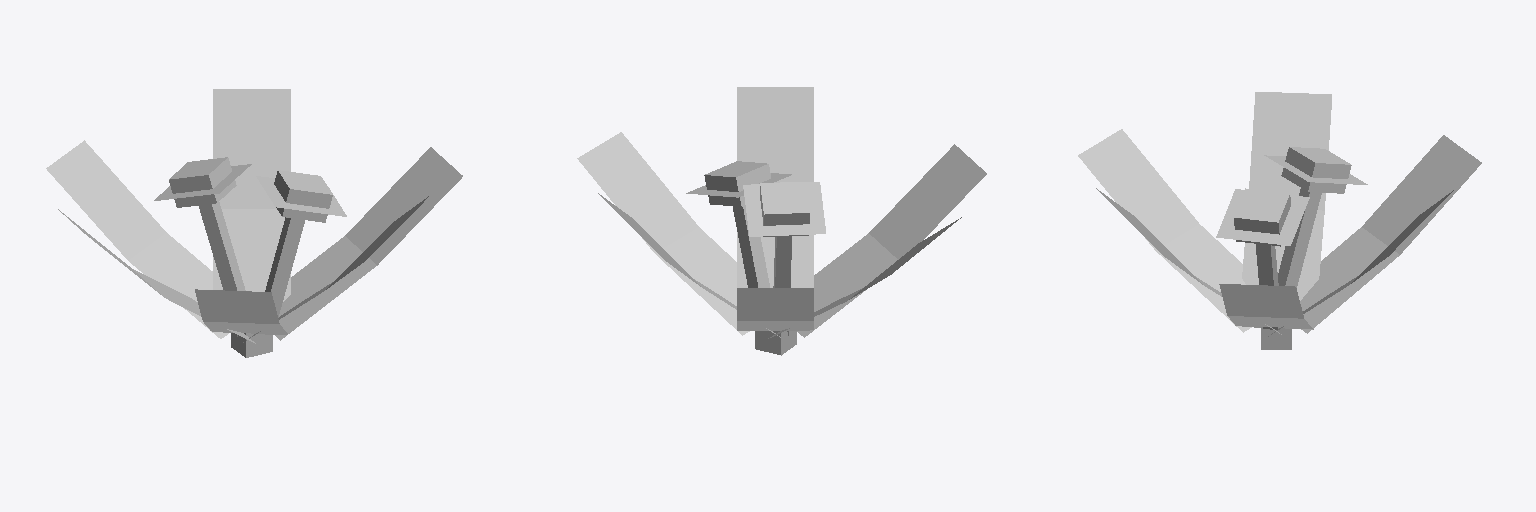
The model's file is rubber_dandelion_2.obj.
3 renders of one model, left to right at view 1: azimuth 30°, elevation 25°; view 2: azimuth 150°, elevation 25°; view 3: azimuth 270°, elevation 25°, orthographic.
Parts seen in each view (by area): view 1: leafSeg1NE, leafSeg1NW, leafSeg1E, leafSeg2E, leafSeg2NE, leafSeg2NW, leafSeg1SW, flower2, flower1, stem2, stem1, petals1 (+5 smaller); view 2: leafSeg1SE, leafSeg1E, leafSeg1SW, leafSeg2E, leafSeg2SW, leafSeg1NW, flower2, petals2, leafSeg2SE, flower1, stem1, stem2 (+4 smaller); view 3: leafSeg1SW, leafSeg1W, leafSeg1NW, leafSeg2NW, leafSeg2SW, leafSeg1E, flower2, flower1, leafSeg2W, petals1, stem2, stem1 (+5 smaller).
Part boxes in pixels (x1,y1,x2,y2): leafSeg1NE: (213,89,290,208); leafSeg1NW: (46,140,166,260); leafSeg1E: (345,147,462,264); leafSeg2E: (275,236,377,340); leafSeg2NE: (213,209,290,301); leafSeg2NW: (129,233,228,338); leafSeg1SW: (195,289,279,323); flower2: (169,157,236,207); flower1: (274,170,332,222); stem2: (199,202,245,336); stem1: (265,217,304,317); petals1: (256,176,346,216); leafSeg1SE: (737,87,813,182); leafSeg1E: (577,132,698,252); leafSeg1SW: (869,144,986,259); leafSeg2E: (655,227,749,335); leafSeg2SW: (797,233,897,337); leafSeg1NW: (737,288,813,320); flower2: (760,182,809,236); petals2: (743,182,825,236); leafSeg2SE: (737,232,813,287); flower1: (704,161,770,206); stem1: (733,205,769,287); stem2: (773,236,791,335); leafSeg1SW: (1078,129,1198,250); leafSeg1W: (1249,92,1331,210); leafSeg1NW: (1362,135,1481,254); leafSeg2NW: (1300,227,1399,333); leafSeg2SW: (1156,224,1251,332); leafSeg1E: (1219,284,1303,318); flower2: (1281,147,1351,193); flower1: (1234,188,1290,246); leafSeg2W: (1242,210,1324,300); petals1: (1216,189,1309,245); stem2: (1278,188,1321,287); stem1: (1256,244,1278,329).
Bounding box in the file's own units: 1.71 × 0.8071 × 1.63.